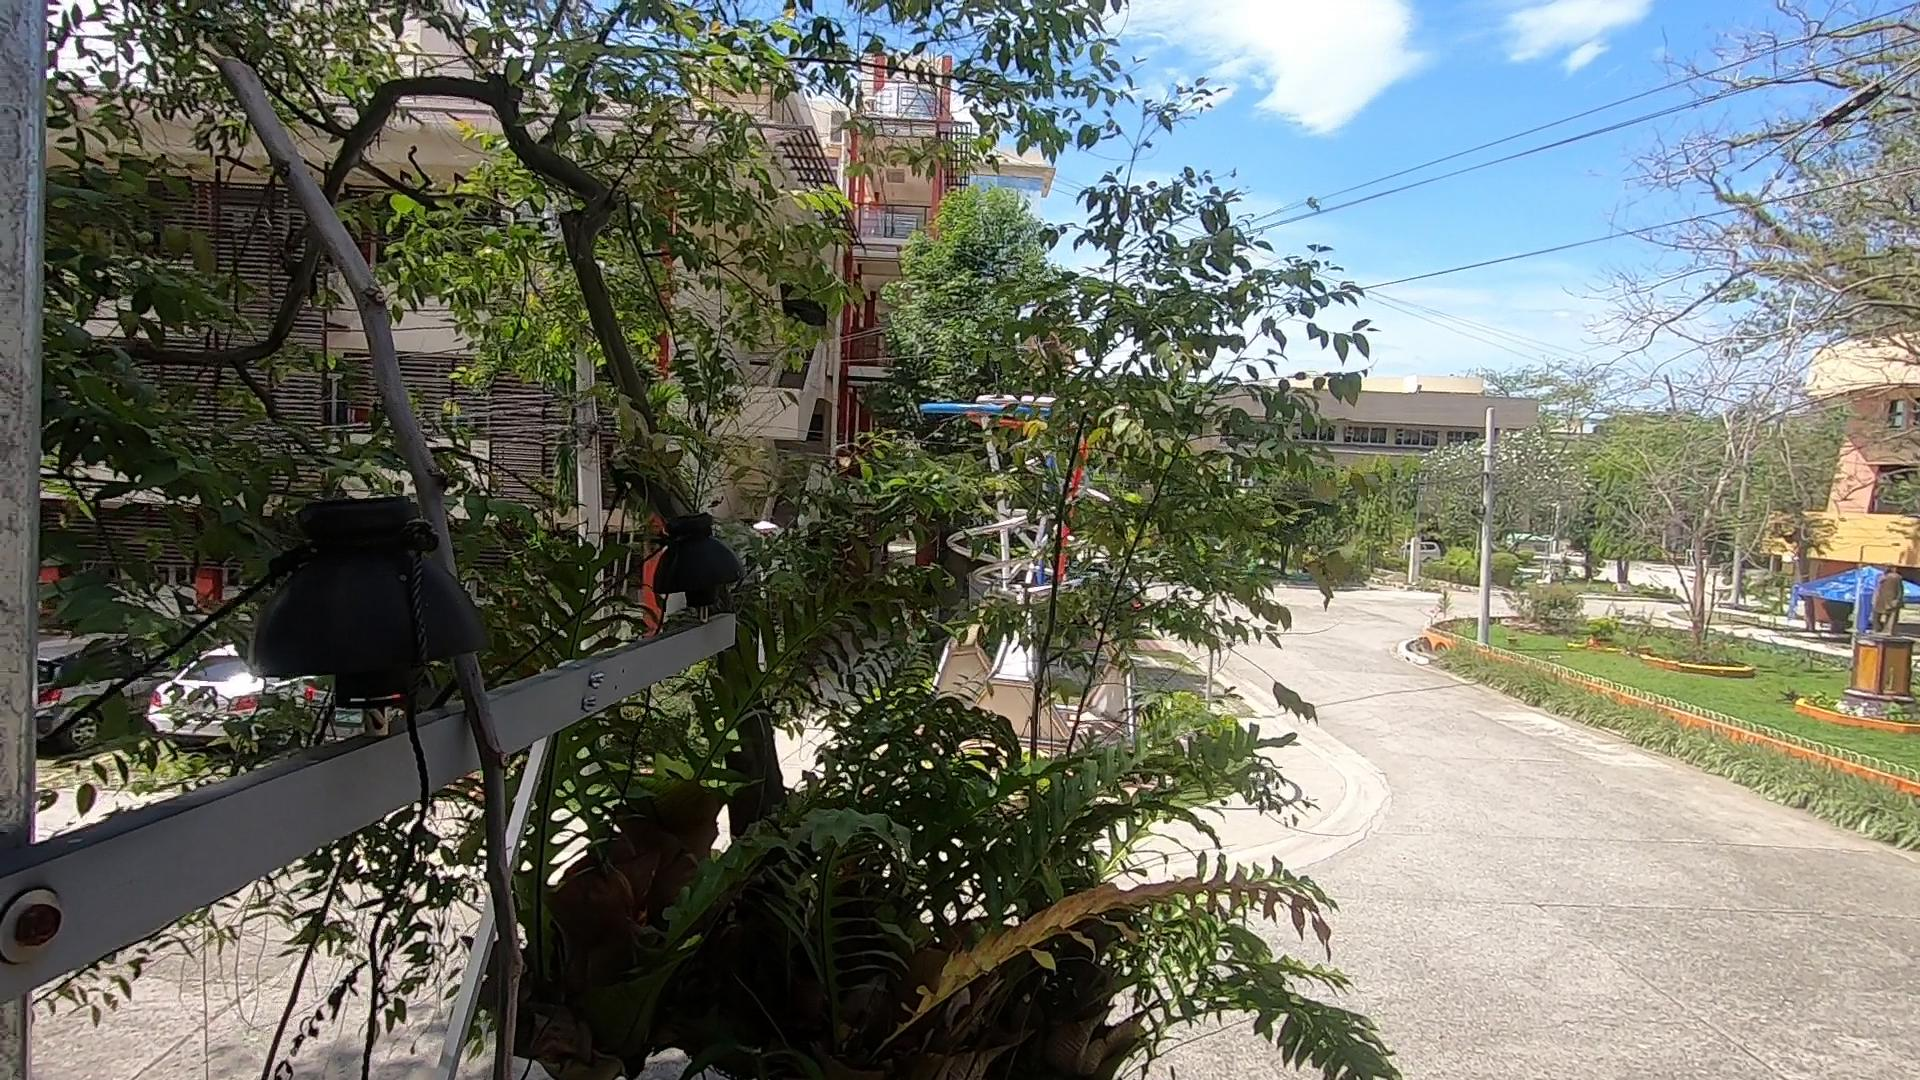tree branch: (189, 37, 593, 1080)
